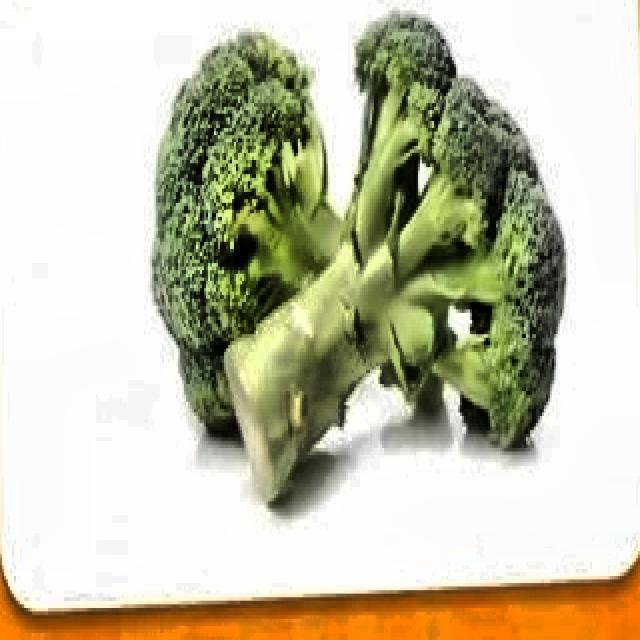Vegetable: (74, 14, 600, 517)
